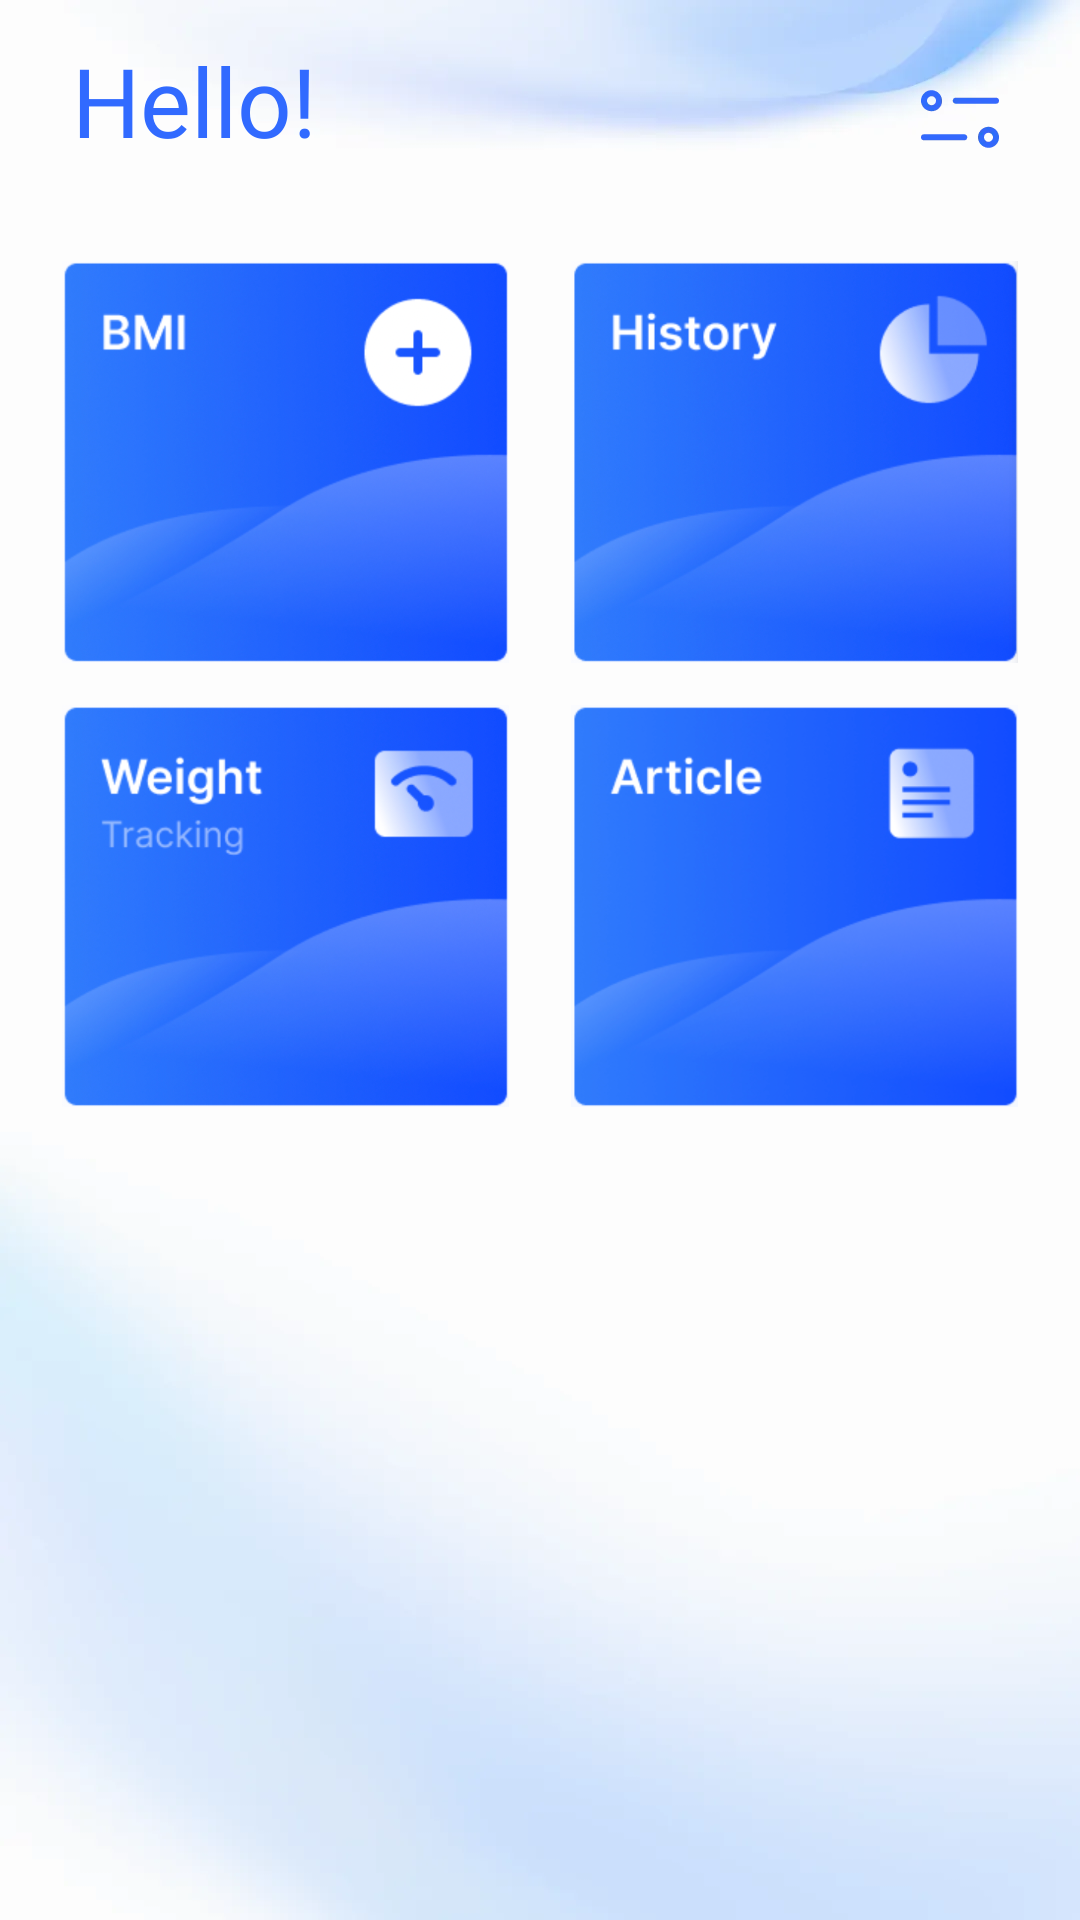

Icon click points for this 1080*1920 phone screenshot, format (x,y):
menu: (955,109)
